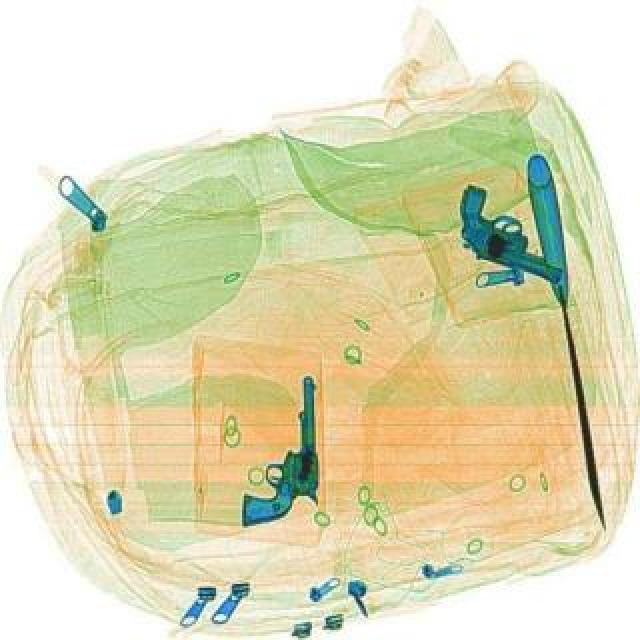gun: (440, 180, 588, 284), (236, 372, 324, 524)
knife: (522, 150, 622, 530)
